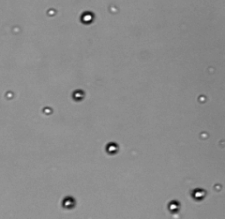Living Cell: (80, 11, 94, 24), (62, 196, 75, 209), (71, 88, 85, 100), (191, 188, 206, 199), (105, 142, 118, 154), (168, 200, 180, 212), (197, 94, 208, 103), (42, 106, 52, 115), (213, 182, 223, 191), (46, 8, 56, 16), (199, 131, 209, 139), (5, 91, 13, 99)
